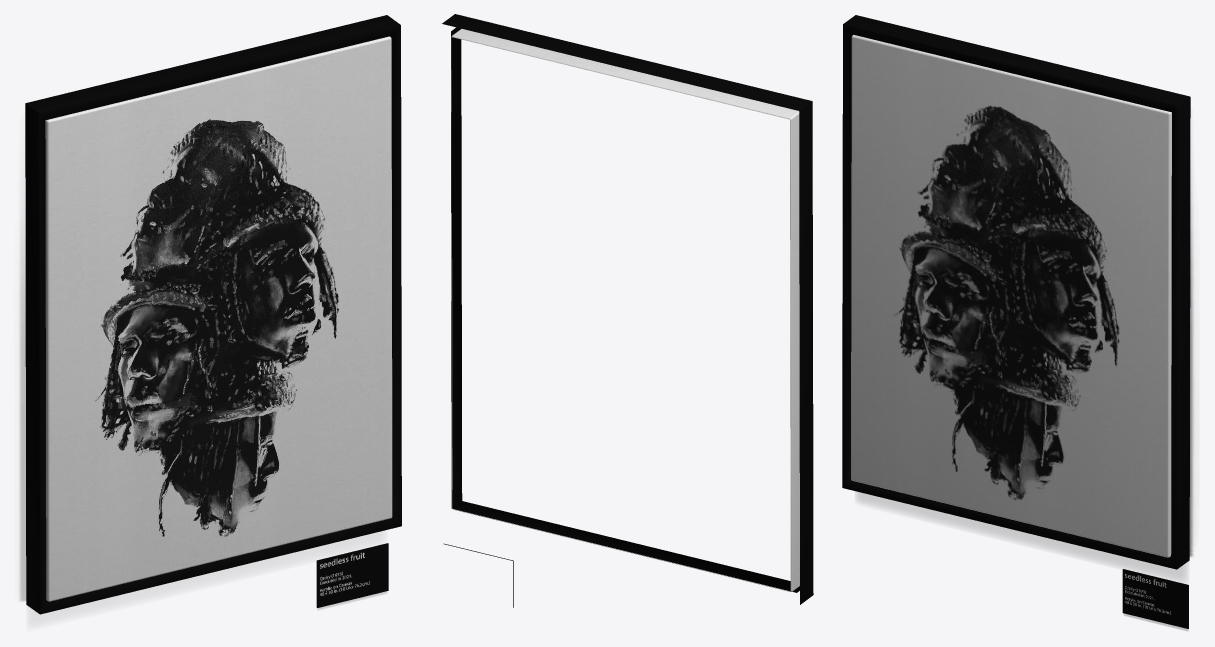
The model's file is seedless-fruit.glb.
3 renders of one model, left to right at view 1: azimuth 30°, elevation 25°; view 2: azimuth 150°, elevation 25°; view 3: azimuth 330°, elevation 25°, orthographic. The views are drawn at different scales.
Visible parts, largest first — view 1: Canvas, frame, title, Plane001; view 2: frame, Canvas; view 3: Canvas, frame, title, Plane001.
Part boxes in pixels (x1,y1,x2,y2): Canvas: (45, 36, 392, 601); frame: (25, 15, 401, 628); title: (316, 543, 388, 610); Plane001: (18, 153, 26, 601); frame: (442, 14, 813, 604); Canvas: (451, 28, 799, 591); Canvas: (851, 34, 1171, 557); frame: (842, 15, 1190, 582); title: (1122, 569, 1188, 630); Plane001: (1189, 166, 1194, 557).
Size of the model in its own units: 8.47 by 12.24 by 0.5889.
Materials: 3 (2 with a texture image).
